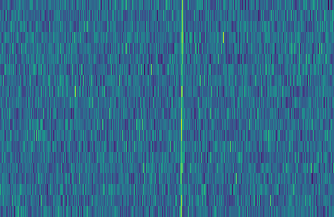signal: (176, 0, 186, 217)
